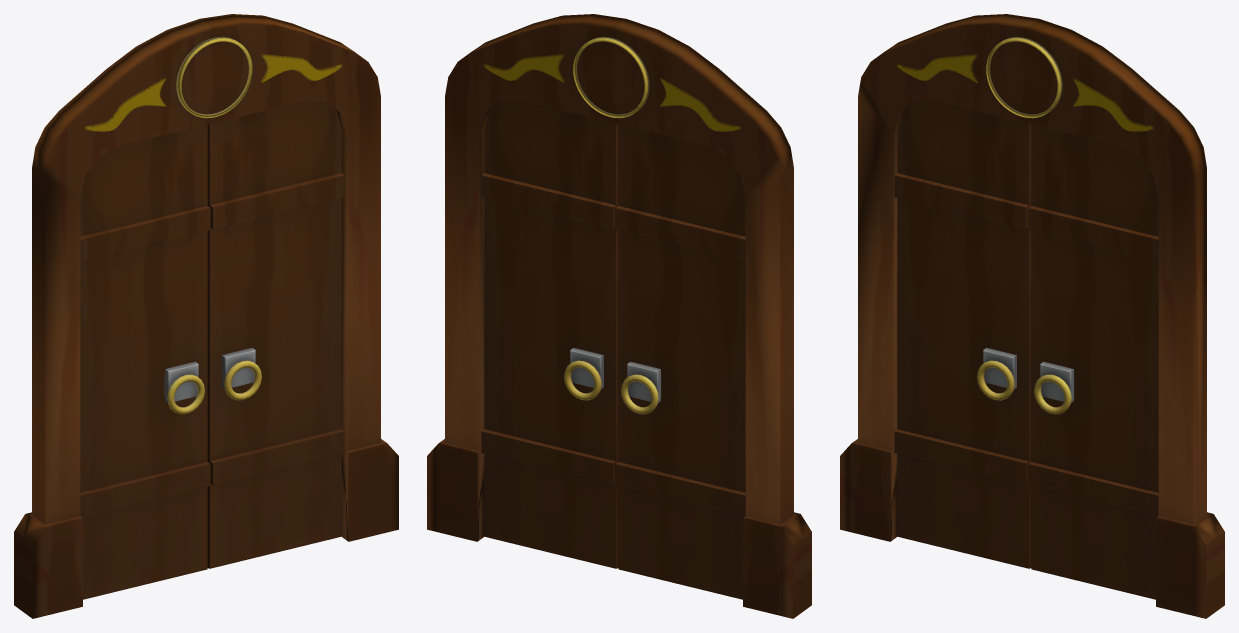
Rendered from PR_Porte.fbx.
3 views of the same model, side by side, from view 1: azimuth 30°, elevation 25°; view 2: azimuth 150°, elevation 25°; view 3: azimuth 330°, elevation 25° (orthographic).
Visible parts, largest first — view 1: SM_Encadrement, SM_Porte_2, SM_Porte_1; view 2: SM_Encadrement, SM_Porte_2, SM_Porte_1; view 3: SM_Encadrement, SM_Porte_1, SM_Porte_2.
Boxes of the visible parts, x1=… form: SM_Encadrement: x1=14, y1=14, x2=398, y2=618; SM_Porte_2: x1=207, y1=100, x2=344, y2=568; SM_Porte_1: x1=80, y1=124, x2=210, y2=599; SM_Encadrement: x1=427, y1=14, x2=811, y2=618; SM_Porte_2: x1=481, y1=100, x2=618, y2=568; SM_Porte_1: x1=615, y1=124, x2=745, y2=599; SM_Encadrement: x1=840, y1=14, x2=1224, y2=618; SM_Porte_1: x1=894, y1=100, x2=1031, y2=568; SM_Porte_2: x1=1028, y1=124, x2=1158, y2=599.
Size of the model in its own units: 213 by 303 by 19.95.
